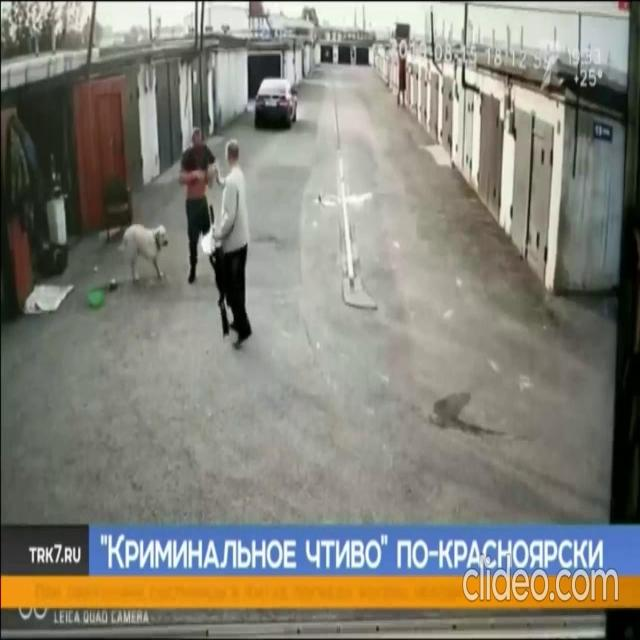gun: (208, 136, 254, 352), (178, 127, 220, 284), (207, 202, 231, 340)
